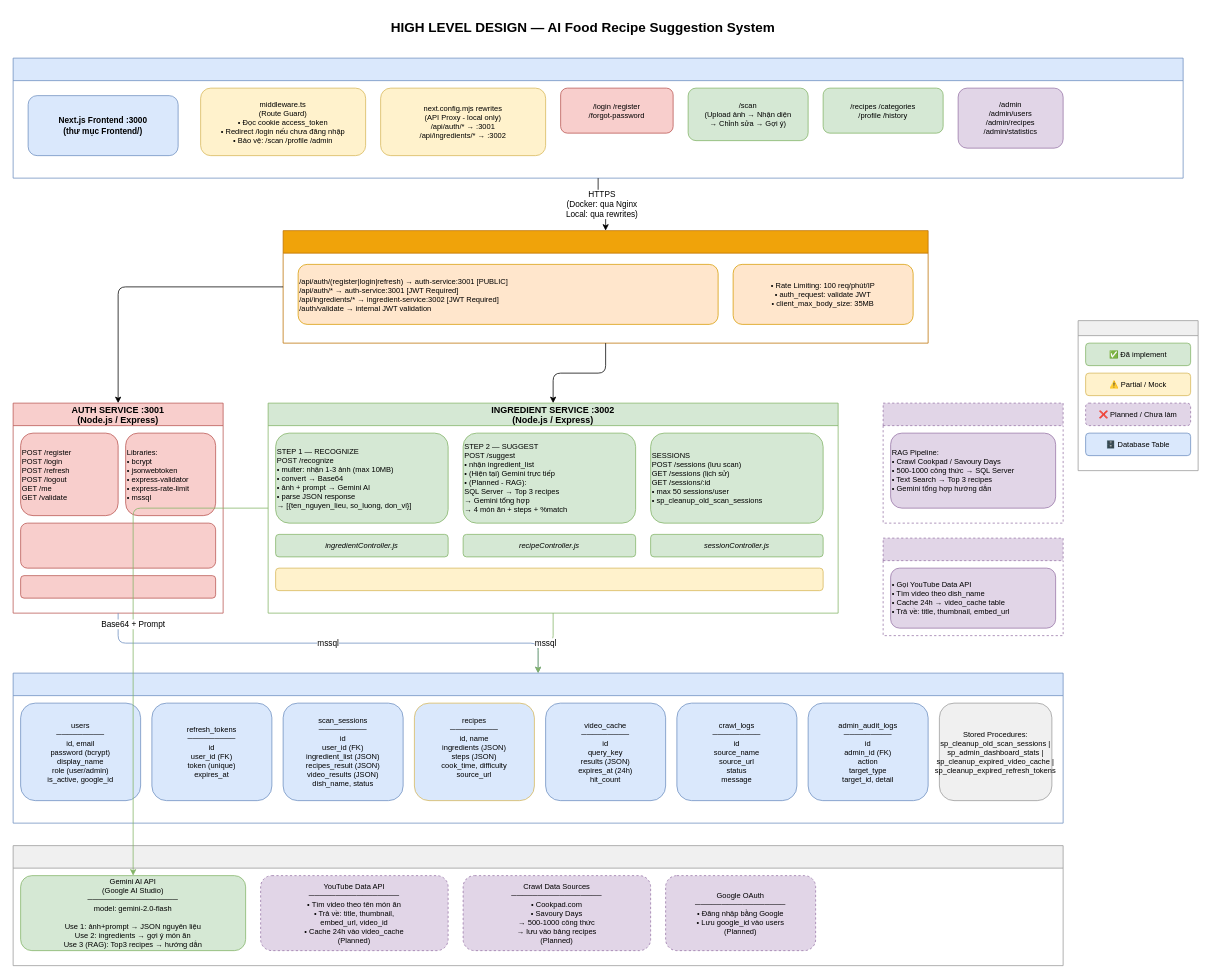
This 1211x979 diagram has some shape labels left out. The box of each missing label's shape, as (x1, y1, x2, y2) in pixels:
authController.js: (20, 575, 216, 598)
CLIENT LAYER: (12, 57, 1183, 178)
DATABASE LAYER — SQL Server :1433 (Docker) | food_recipe_db: (12, 672, 1063, 823)
EXTERNAL SERVICES: (12, 845, 1063, 966)
GEMINI_MOCK=true/false (toggle): (275, 567, 823, 591)
JWT Flow: access_token (1h) refresh_token (7d) → lưu cookie + localStorage: (20, 522, 216, 568)
LEGEND: (1077, 320, 1198, 471)
NGINX API GATEWAY :80 (Docker — gateway/nginx.conf): (282, 230, 928, 343)
RECIPE SERVICE (Planned): (882, 402, 1063, 523)
VIDEO SERVICE (Planned): (882, 537, 1063, 636)
